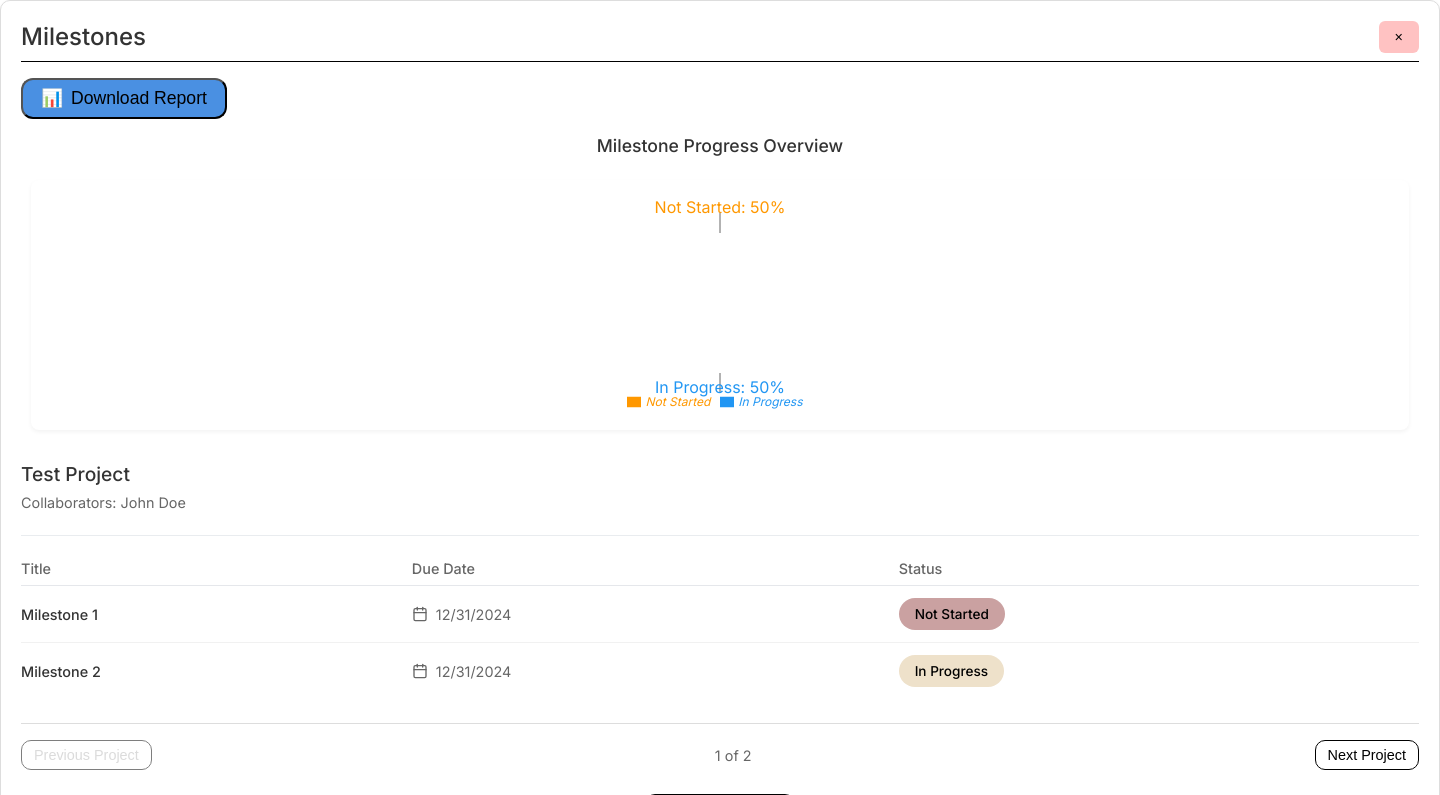
Test: MilestonesWidget › handles project navigation correctly
This screenshot has width=1440, height=795.
Check: the heading "Test Project" is shown, box [21,462,130,486]
Click the button "Next Project" at (1367, 755), box [1315,740,1419,770]
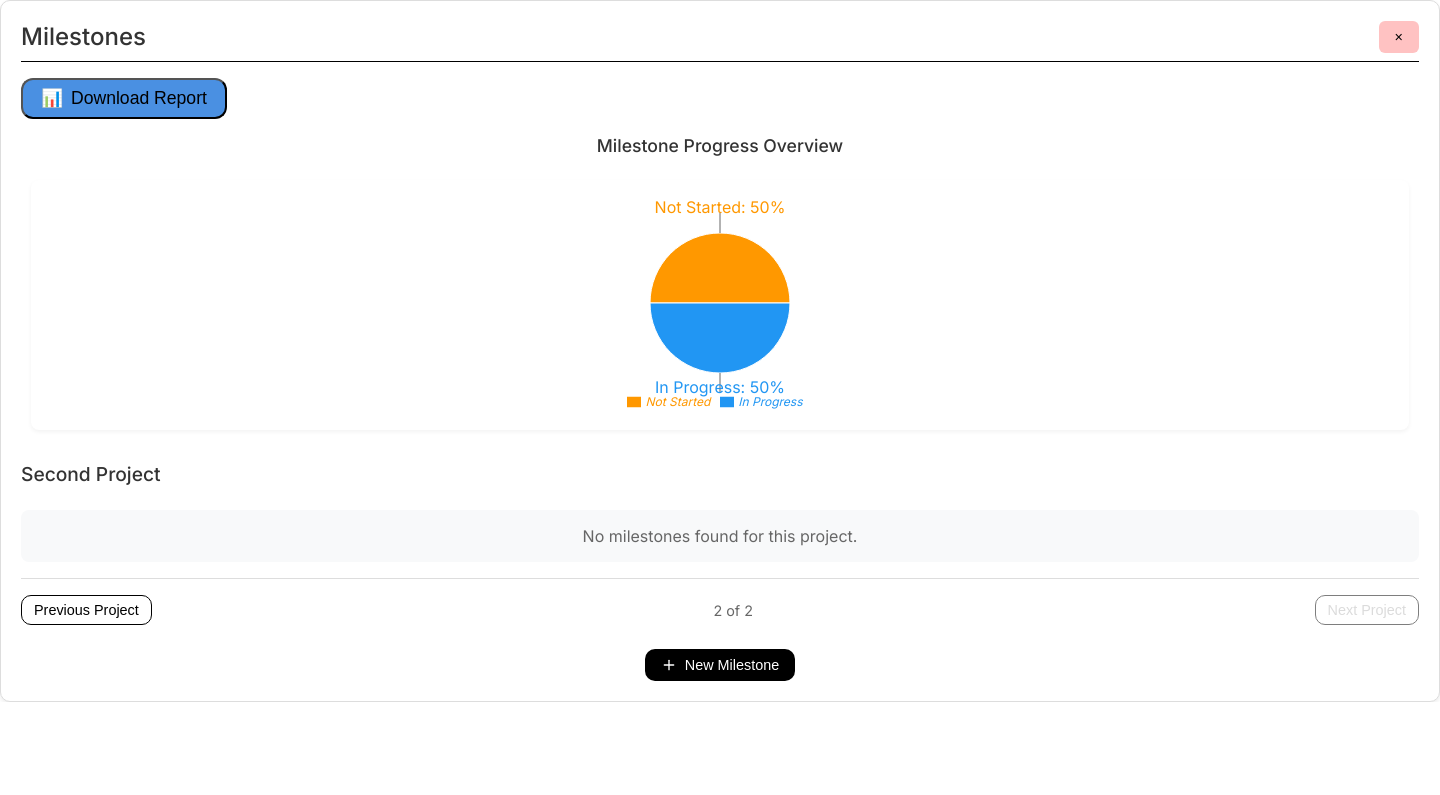
Check: the heading "Second Project" is shown, box [21,462,160,486]
